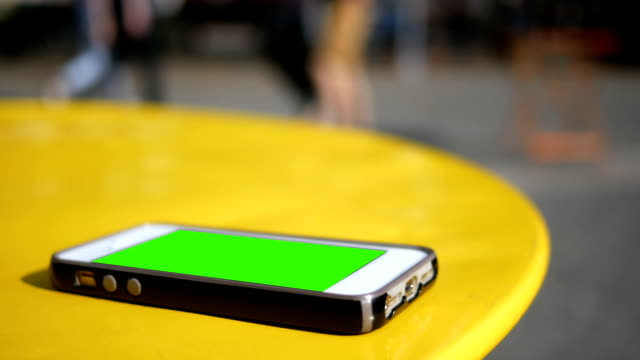Cell Phone: (50, 222, 438, 338)
